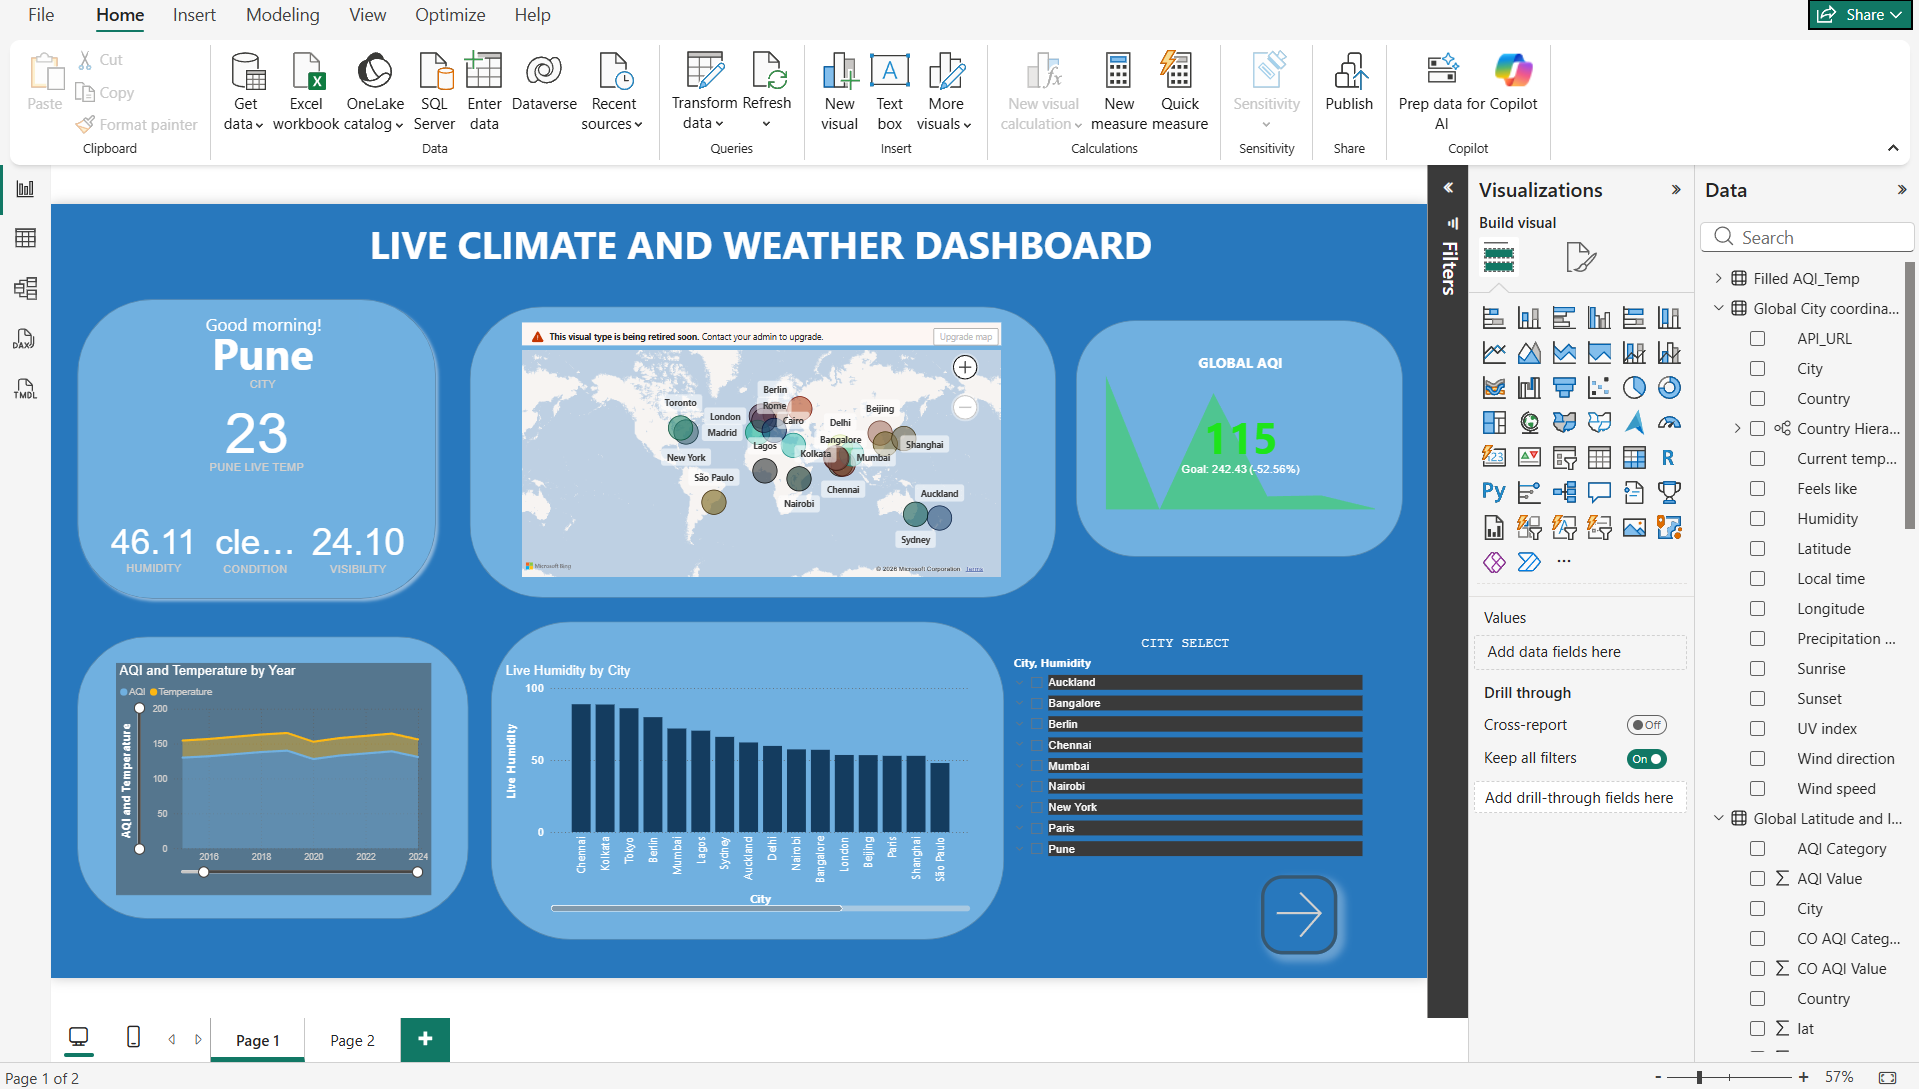

The page's visual inventory and layout, read from the dashboard file:
{"tool":"powerbi","page":{"name":"Page 1","canvas":[1920,1080],"ordinal":0},"visuals":[{"type":"shape","box":[1430,162,456,330],"z":0},{"type":"shape","box":[584.3,143,818,406.4],"z":1000},{"type":"shape","box":[614,582,716,444],"z":2000},{"type":"shape","box":[27.9,123.8,518,436],"z":3000},{"type":"map","fields":{"Category":["Global City coordinates.City"],"Series":["Global City coordinates.Weatherdata.currentConditions.temp"],"Size":["CountNonNull(Global City coordinates.Weatherdata.currentConditions.temp)"]},"box":[652.3,160.5,678.5,364.5],"z":4000},{"type":"card","fields":{"Values":["Min(Global City coordinates.Weatherdata.currentConditions.temp)"]},"box":[130,218.3,313.3,205],"z":5000},{"type":"shape","box":[36,604,546,394],"z":6000},{"type":"stackedAreaChart","fields":{"Category":["Sheet1.Year"],"Y":["Sum(Sheet1.AQI)","Sum(Sheet1.Temperature)"]},"box":[90,640,440,324],"z":7000},{"type":"columnChart","fields":{"Category":["Global City coordinates.City"],"Y":["Sum(Global City coordinates.Weatherdata.currentConditions.humidity)"]},"box":[630,640,658,352],"z":8000},{"type":"slicer","title":"CITY SELECT","fields":{"Values":["Global City coordinates.City","Global City coordinates.Weatherdata.currentConditions.humidity"]},"box":[1330,604,504,370],"z":9000},{"type":"card","fields":{"Values":["Sum(Pune?unitGroup=metric&key=G3F2BLJD3A7X8W7NLD62KDUL6&contentType=json.currentConditions.humidity)"]},"box":[73.3,422.1,141.3,108.1],"z":10000},{"type":"card","fields":{"Values":["Min(Pune?unitGroup=metric&key=G3F2BLJD3A7X8W7NLD62KDUL6&contentType=json.currentConditions.icon)"]},"box":[218.3,423.3,135,106.7],"z":11000},{"type":"card","fields":{"Values":["Sum(Pune?unitGroup=metric&key=G3F2BLJD3A7X8W7NLD62KDUL6&contentType=json.currentConditions.visibility)"]},"box":[355,421.7,146.7,108.3],"z":12000},{"type":"kpi","title":"GLOBAL AQI","fields":{"TrendLine":["Global Latitude and longitude w.PM2.5 AQI Category"],"Indicator":["CountNonNull(Global Latitude and longitude w.PM2.5 AQI Category)"],"Goal":["Avg(Global Latitude and longitude w.AQI Value)"]},"box":[1466,208,386,224],"z":13000},{"type":"card","fields":{"Values":["Min(Pune?unitGroup=metric&key=G3F2BLJD3A7X8W7NLD62KDUL6&contentType=json.address)"]},"box":[143,143,305.2,143],"z":14000},{"type":"textbox","box":[66.3,14,1848.8,109.9],"z":15000},{"type":"actionButton","box":[1688,936,106,110],"z":16000},{"type":"cardVisual","fields":{"Data":["Filled AQI_Temp.Greeting"]},"box":[164,137.8,266.9,47.1],"z":17000}]}

Visuals, with their boxes on the page's 1920x1080 design canvas (x1, y1, x2, y2). These are canvas units, not pixel positions in the 1919x1089 screenshot, which may show the page scaled, cropped or inside an application window:
shape: <region>1430, 162, 1886, 492</region>
shape: <region>584, 143, 1402, 549</region>
shape: <region>614, 582, 1330, 1026</region>
shape: <region>28, 124, 546, 560</region>
map - Global City coordinates.City x Global City coordinates.Weatherdata.currentConditions.temp: <region>652, 160, 1331, 525</region>
card - Min(Global City coordinates.Weatherdata.currentConditions.temp): <region>130, 218, 443, 423</region>
shape: <region>36, 604, 582, 998</region>
stackedAreaChart - Sheet1.Year x Sum(Sheet1.AQI): <region>90, 640, 530, 964</region>
columnChart - Global City coordinates.City x Sum(Global City coordinates.Weatherdata.currentConditions.humidity): <region>630, 640, 1288, 992</region>
"CITY SELECT" slicer: <region>1330, 604, 1834, 974</region>
card - Sum(Pune?unitGroup=metric&key=G3F2BLJD3A7X8W7NLD62KDUL6&contentType=json.currentConditions.humidity): <region>73, 422, 215, 530</region>
card - Min(Pune?unitGroup=metric&key=G3F2BLJD3A7X8W7NLD62KDUL6&contentType=json.currentConditions.icon): <region>218, 423, 353, 530</region>
card - Sum(Pune?unitGroup=metric&key=G3F2BLJD3A7X8W7NLD62KDUL6&contentType=json.currentConditions.visibility): <region>355, 422, 502, 530</region>
"GLOBAL AQI" kpi: <region>1466, 208, 1852, 432</region>
card - Min(Pune?unitGroup=metric&key=G3F2BLJD3A7X8W7NLD62KDUL6&contentType=json.address): <region>143, 143, 448, 286</region>
textbox: <region>66, 14, 1915, 124</region>
actionButton: <region>1688, 936, 1794, 1046</region>
cardVisual - Filled AQI_Temp.Greeting: <region>164, 138, 431, 185</region>
